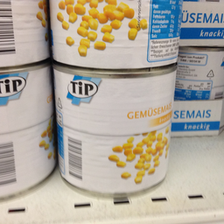corn: (53, 65, 178, 201), (48, 1, 182, 67)
